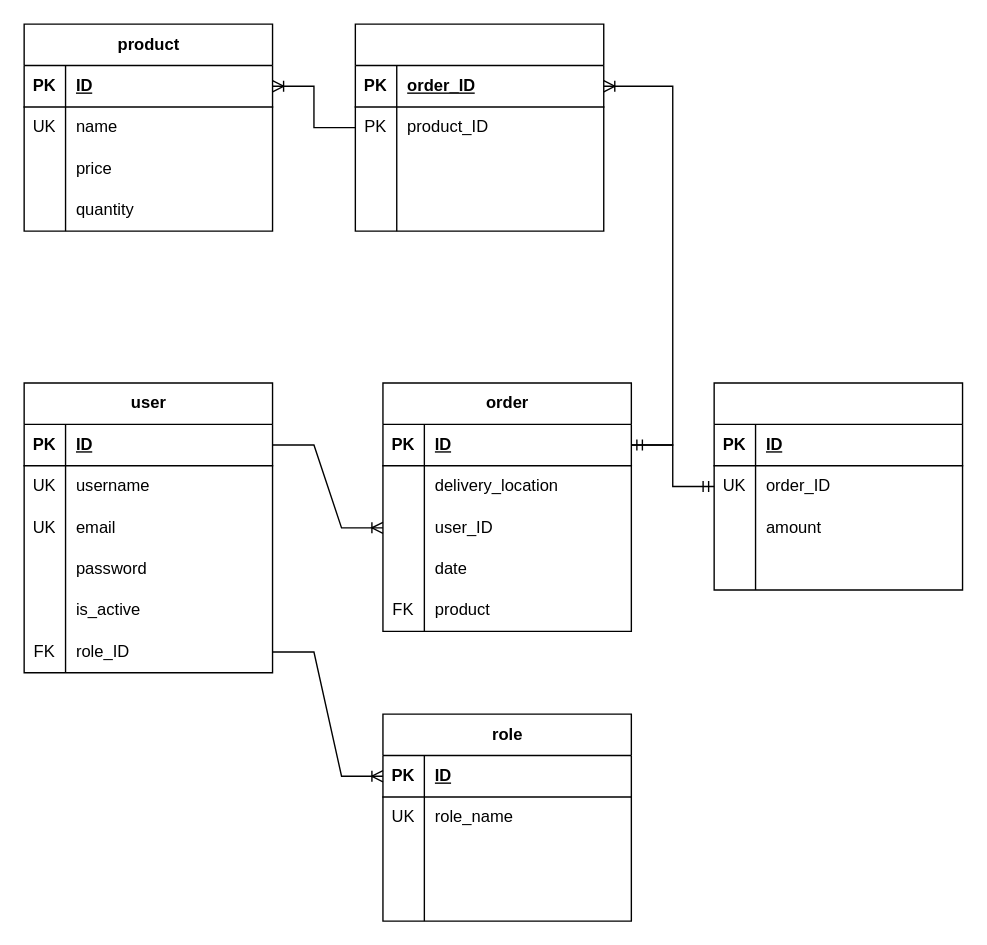
Image size: 987x945. Some labels were removed from this diagram. Each missing label, with the box of its shape:
payment: (713, 382, 963, 590)
product_order: (354, 23, 604, 231)
